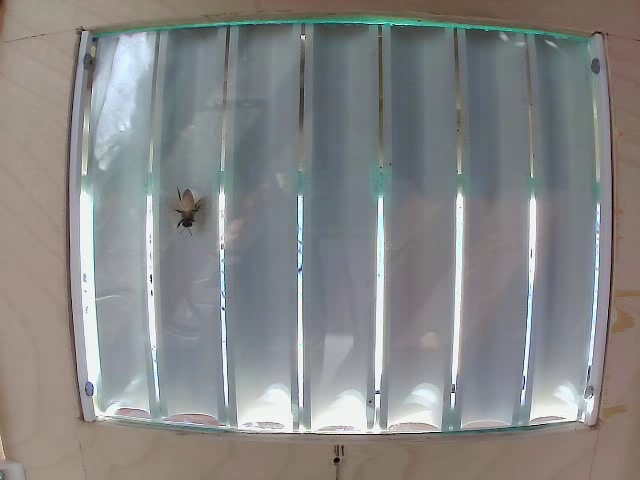bee: (170, 186, 209, 236)
